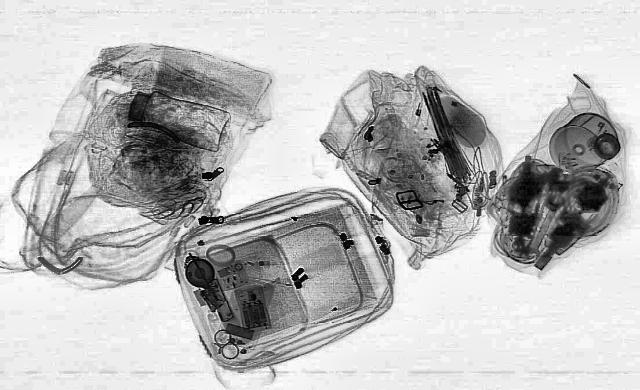Wrench: (519, 192, 567, 258)
